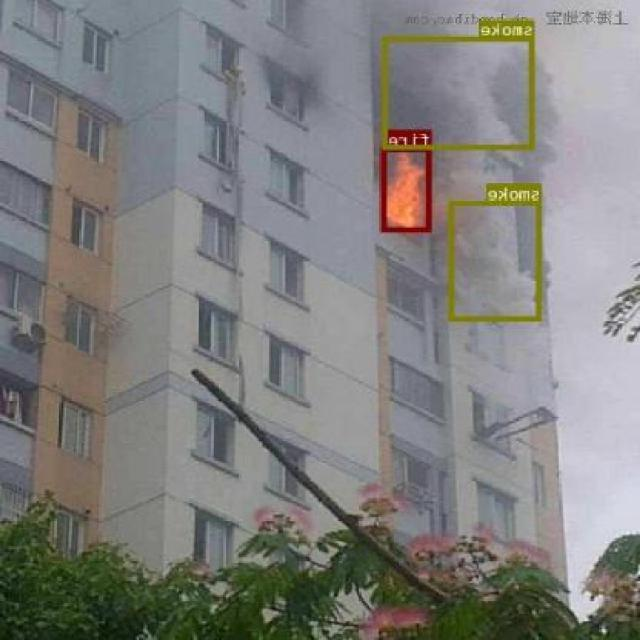Fire: (383, 146, 432, 231)
Smoke: (382, 34, 536, 148), (451, 199, 542, 321)
